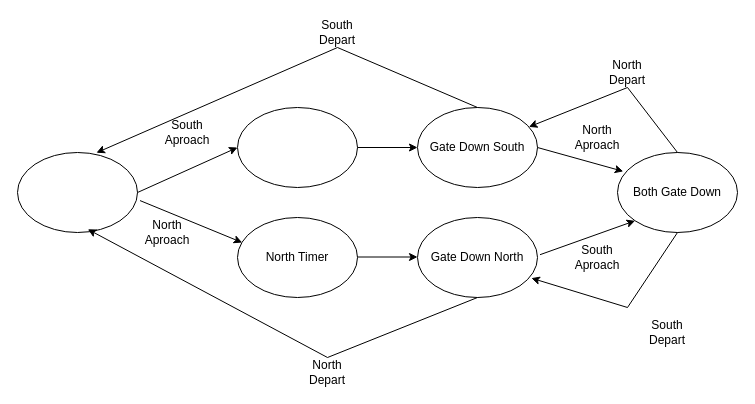
This 755x404 diagram has some shape labels left out. Each missing label, with the box of its shape:
Idle: (16, 152, 138, 232)
South Timer: (236, 106, 358, 188)
